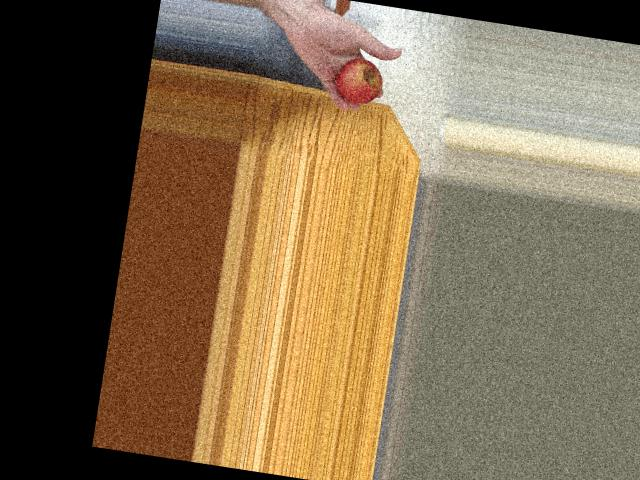apple: (324, 53, 388, 108)
